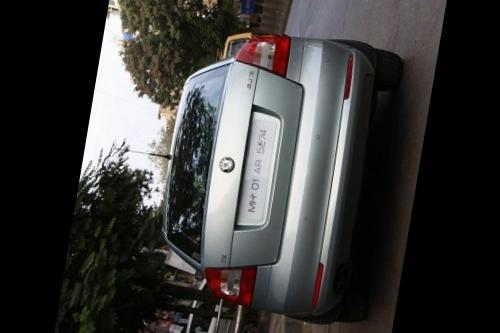plate: (224, 106, 298, 237)
